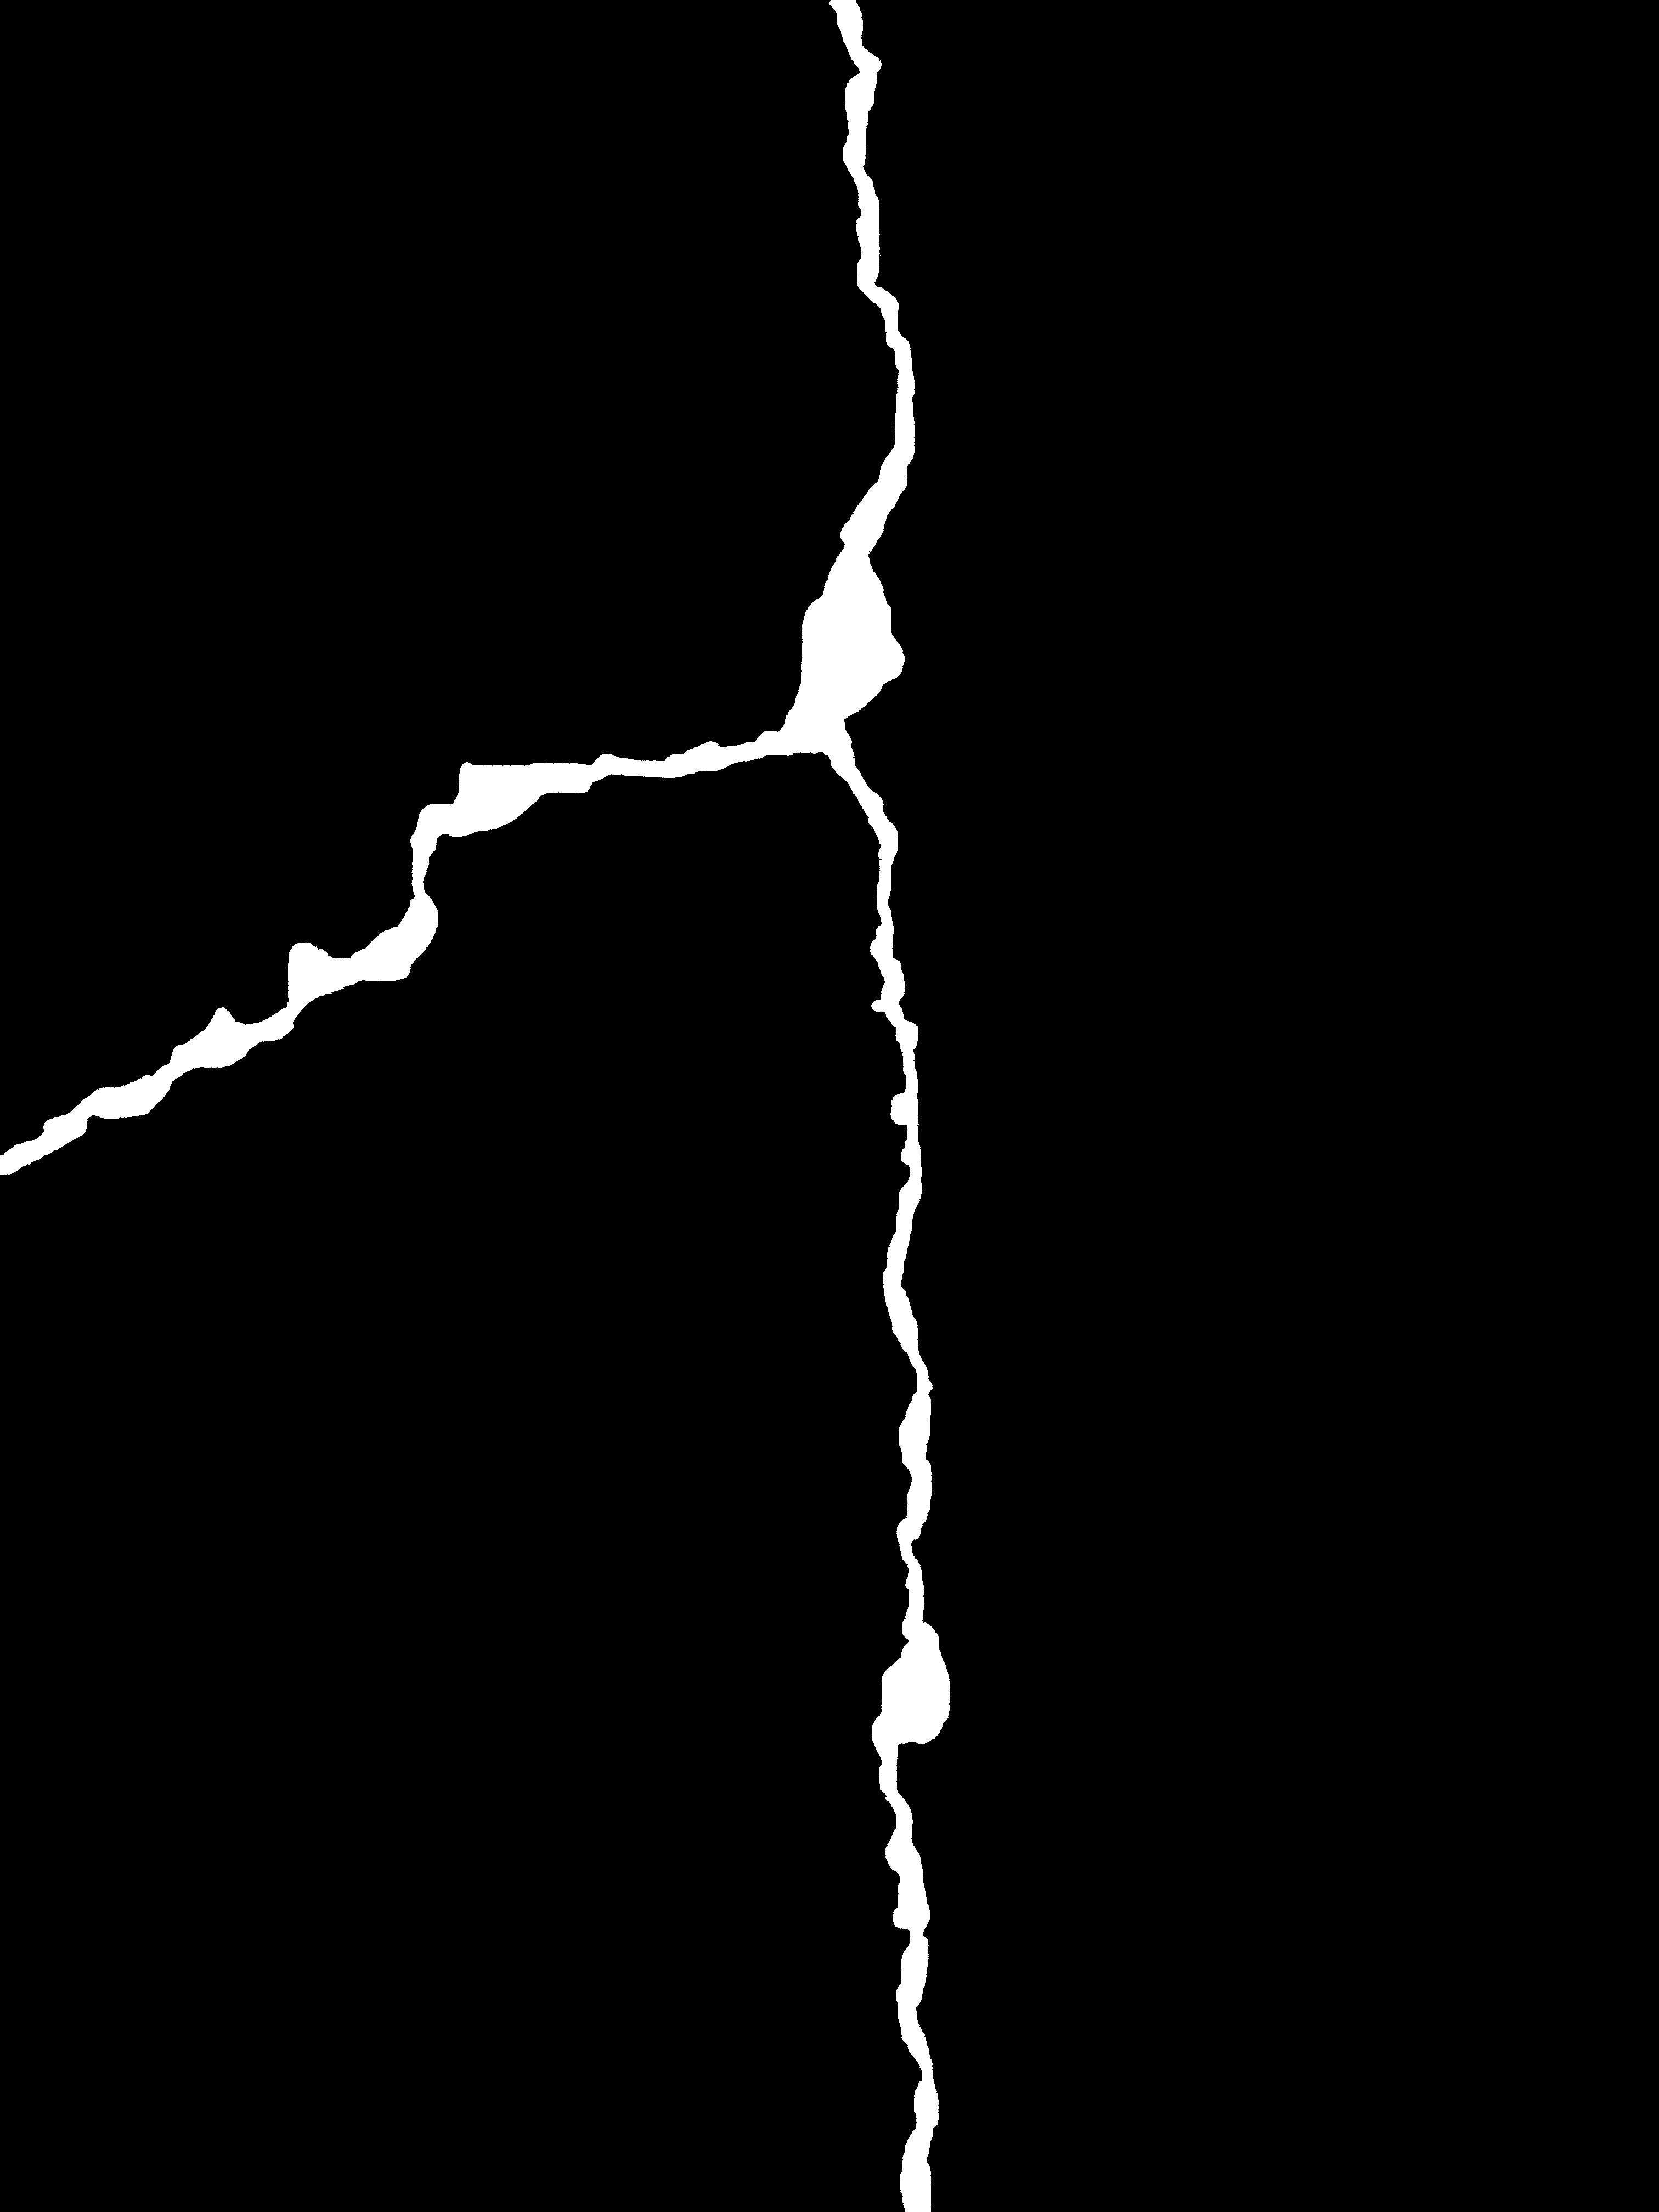Crack: (0, 0, 965, 2212)
